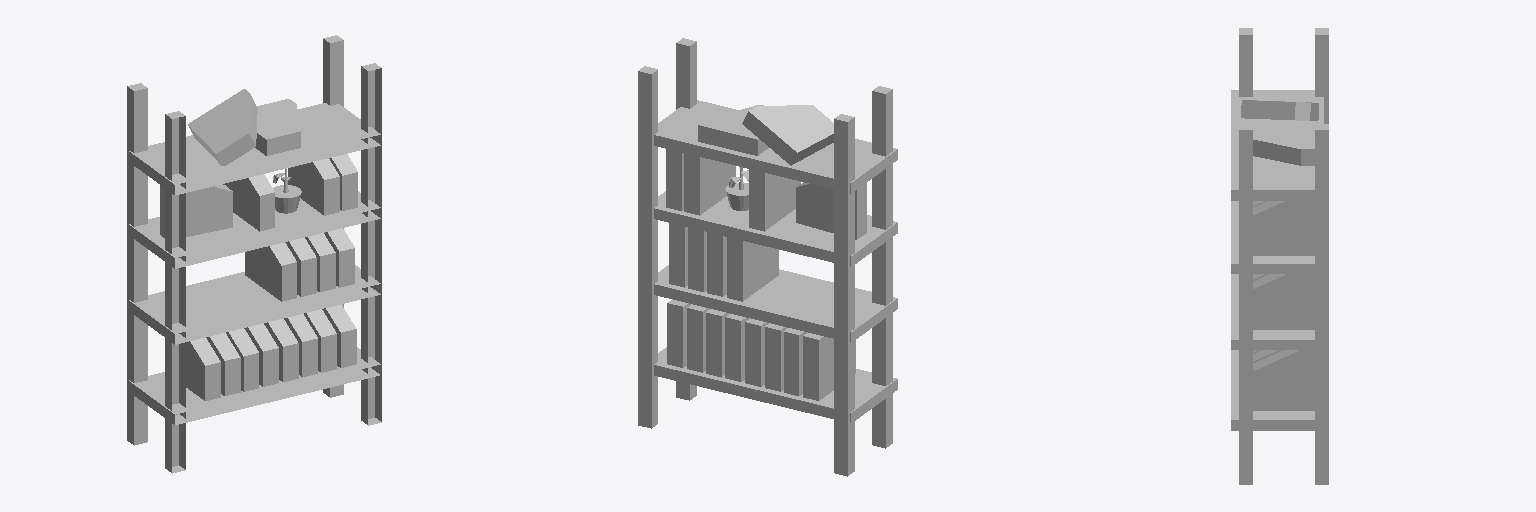
The model's file is bookshelf.obj.
3 renders of one model, left to right at view 1: azimuth 30°, elevation 25°; view 2: azimuth 150°, elevation 25°; view 3: azimuth 270°, elevation 25°, orthographic.
Parts seen in each view (by area): view 1: Cube.009; view 2: Cube.009; view 3: Cube.009.
Boxes of the visible parts, x1=… form: Cube.009: x1=127, y1=35, x2=381, y2=473; Cube.009: x1=638, y1=38, x2=897, y2=476; Cube.009: x1=1231, y1=28, x2=1328, y2=484.
Bounding box in the file's own units: 1.78 × 2.85 × 0.7167.